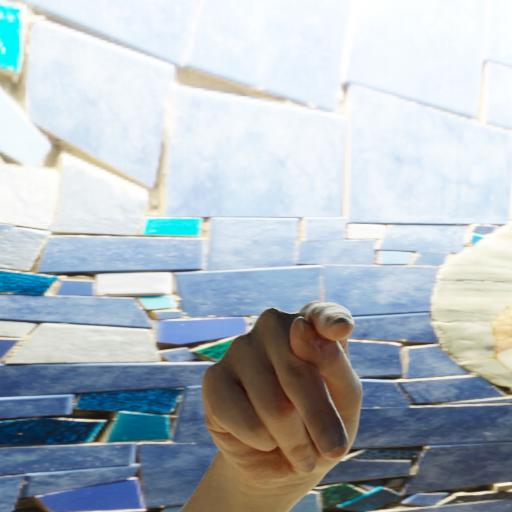P: (197, 290, 370, 512)
